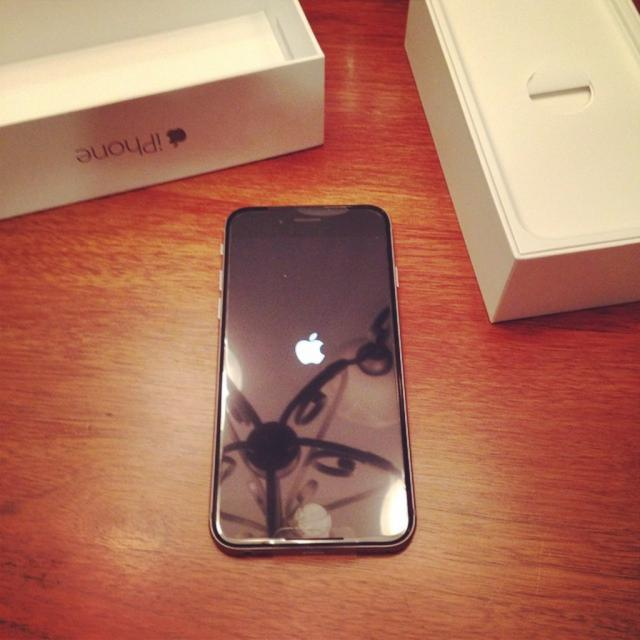Mobile-phone: (198, 173, 425, 581)
